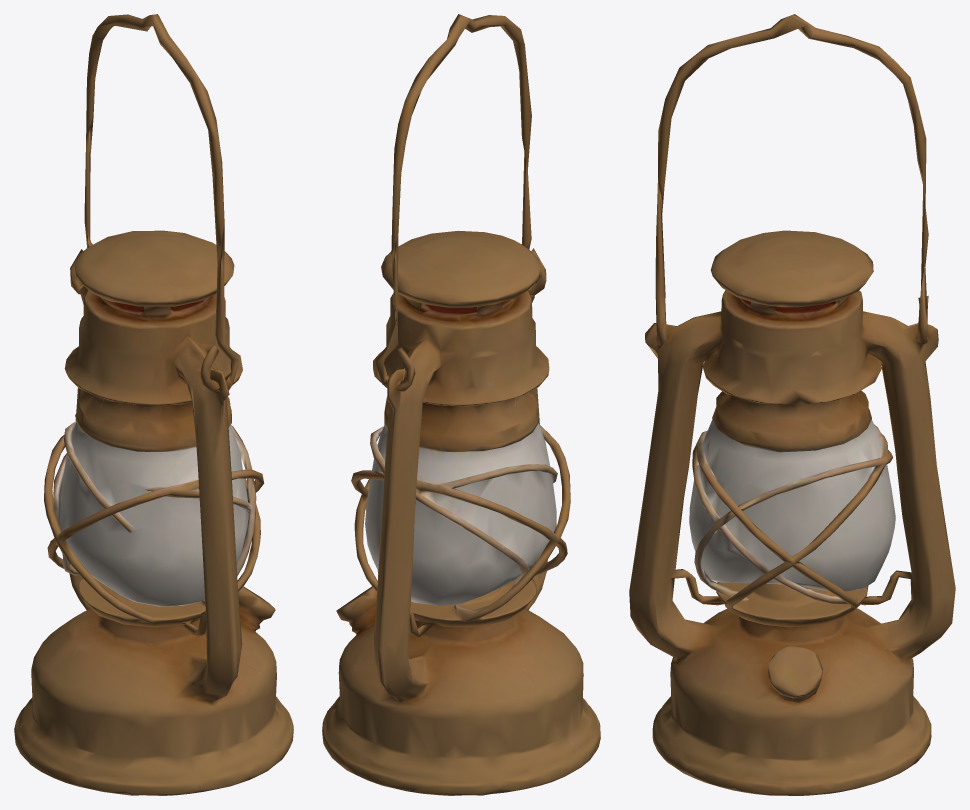
Rendered from lantern.glb.
3 views of the same model, side by side, from view 1: azimuth 30°, elevation 25°; view 2: azimuth 150°, elevation 25°; view 3: azimuth 270°, elevation 25° (orthographic).
Visible parts, largest first — view 1: tripo_node_585af94a-5b09-4ab9-9ebc-3de5a1fd2502; view 2: tripo_node_585af94a-5b09-4ab9-9ebc-3de5a1fd2502; view 3: tripo_node_585af94a-5b09-4ab9-9ebc-3de5a1fd2502.
Part boxes in pixels (left/top/right/bottom): tripo_node_585af94a-5b09-4ab9-9ebc-3de5a1fd2502: left=14, top=14, right=293, bottom=795; tripo_node_585af94a-5b09-4ab9-9ebc-3de5a1fd2502: left=322, top=14, right=600, bottom=795; tripo_node_585af94a-5b09-4ab9-9ebc-3de5a1fd2502: left=629, top=14, right=955, bottom=795.
Bounding box in the file's own units: 0.3514 × 1 × 0.4089.
1 material, 1 textured.
